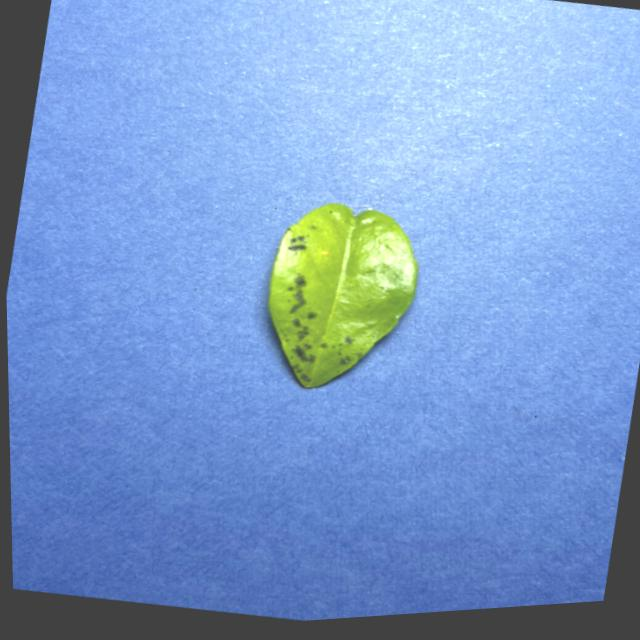sooty_mold: (269, 202, 416, 386)
